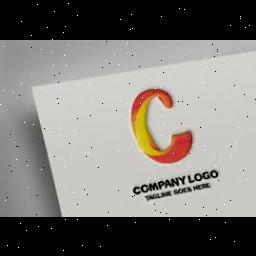c: (121, 80, 201, 160)
